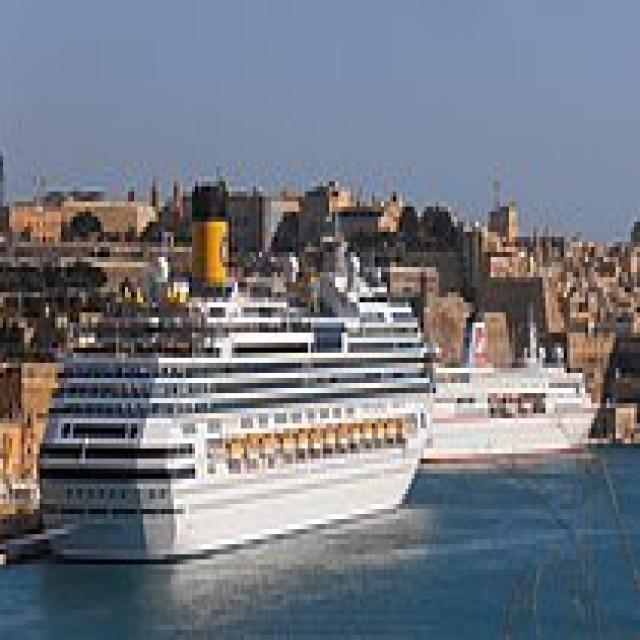Ship: (25, 273, 443, 566)
